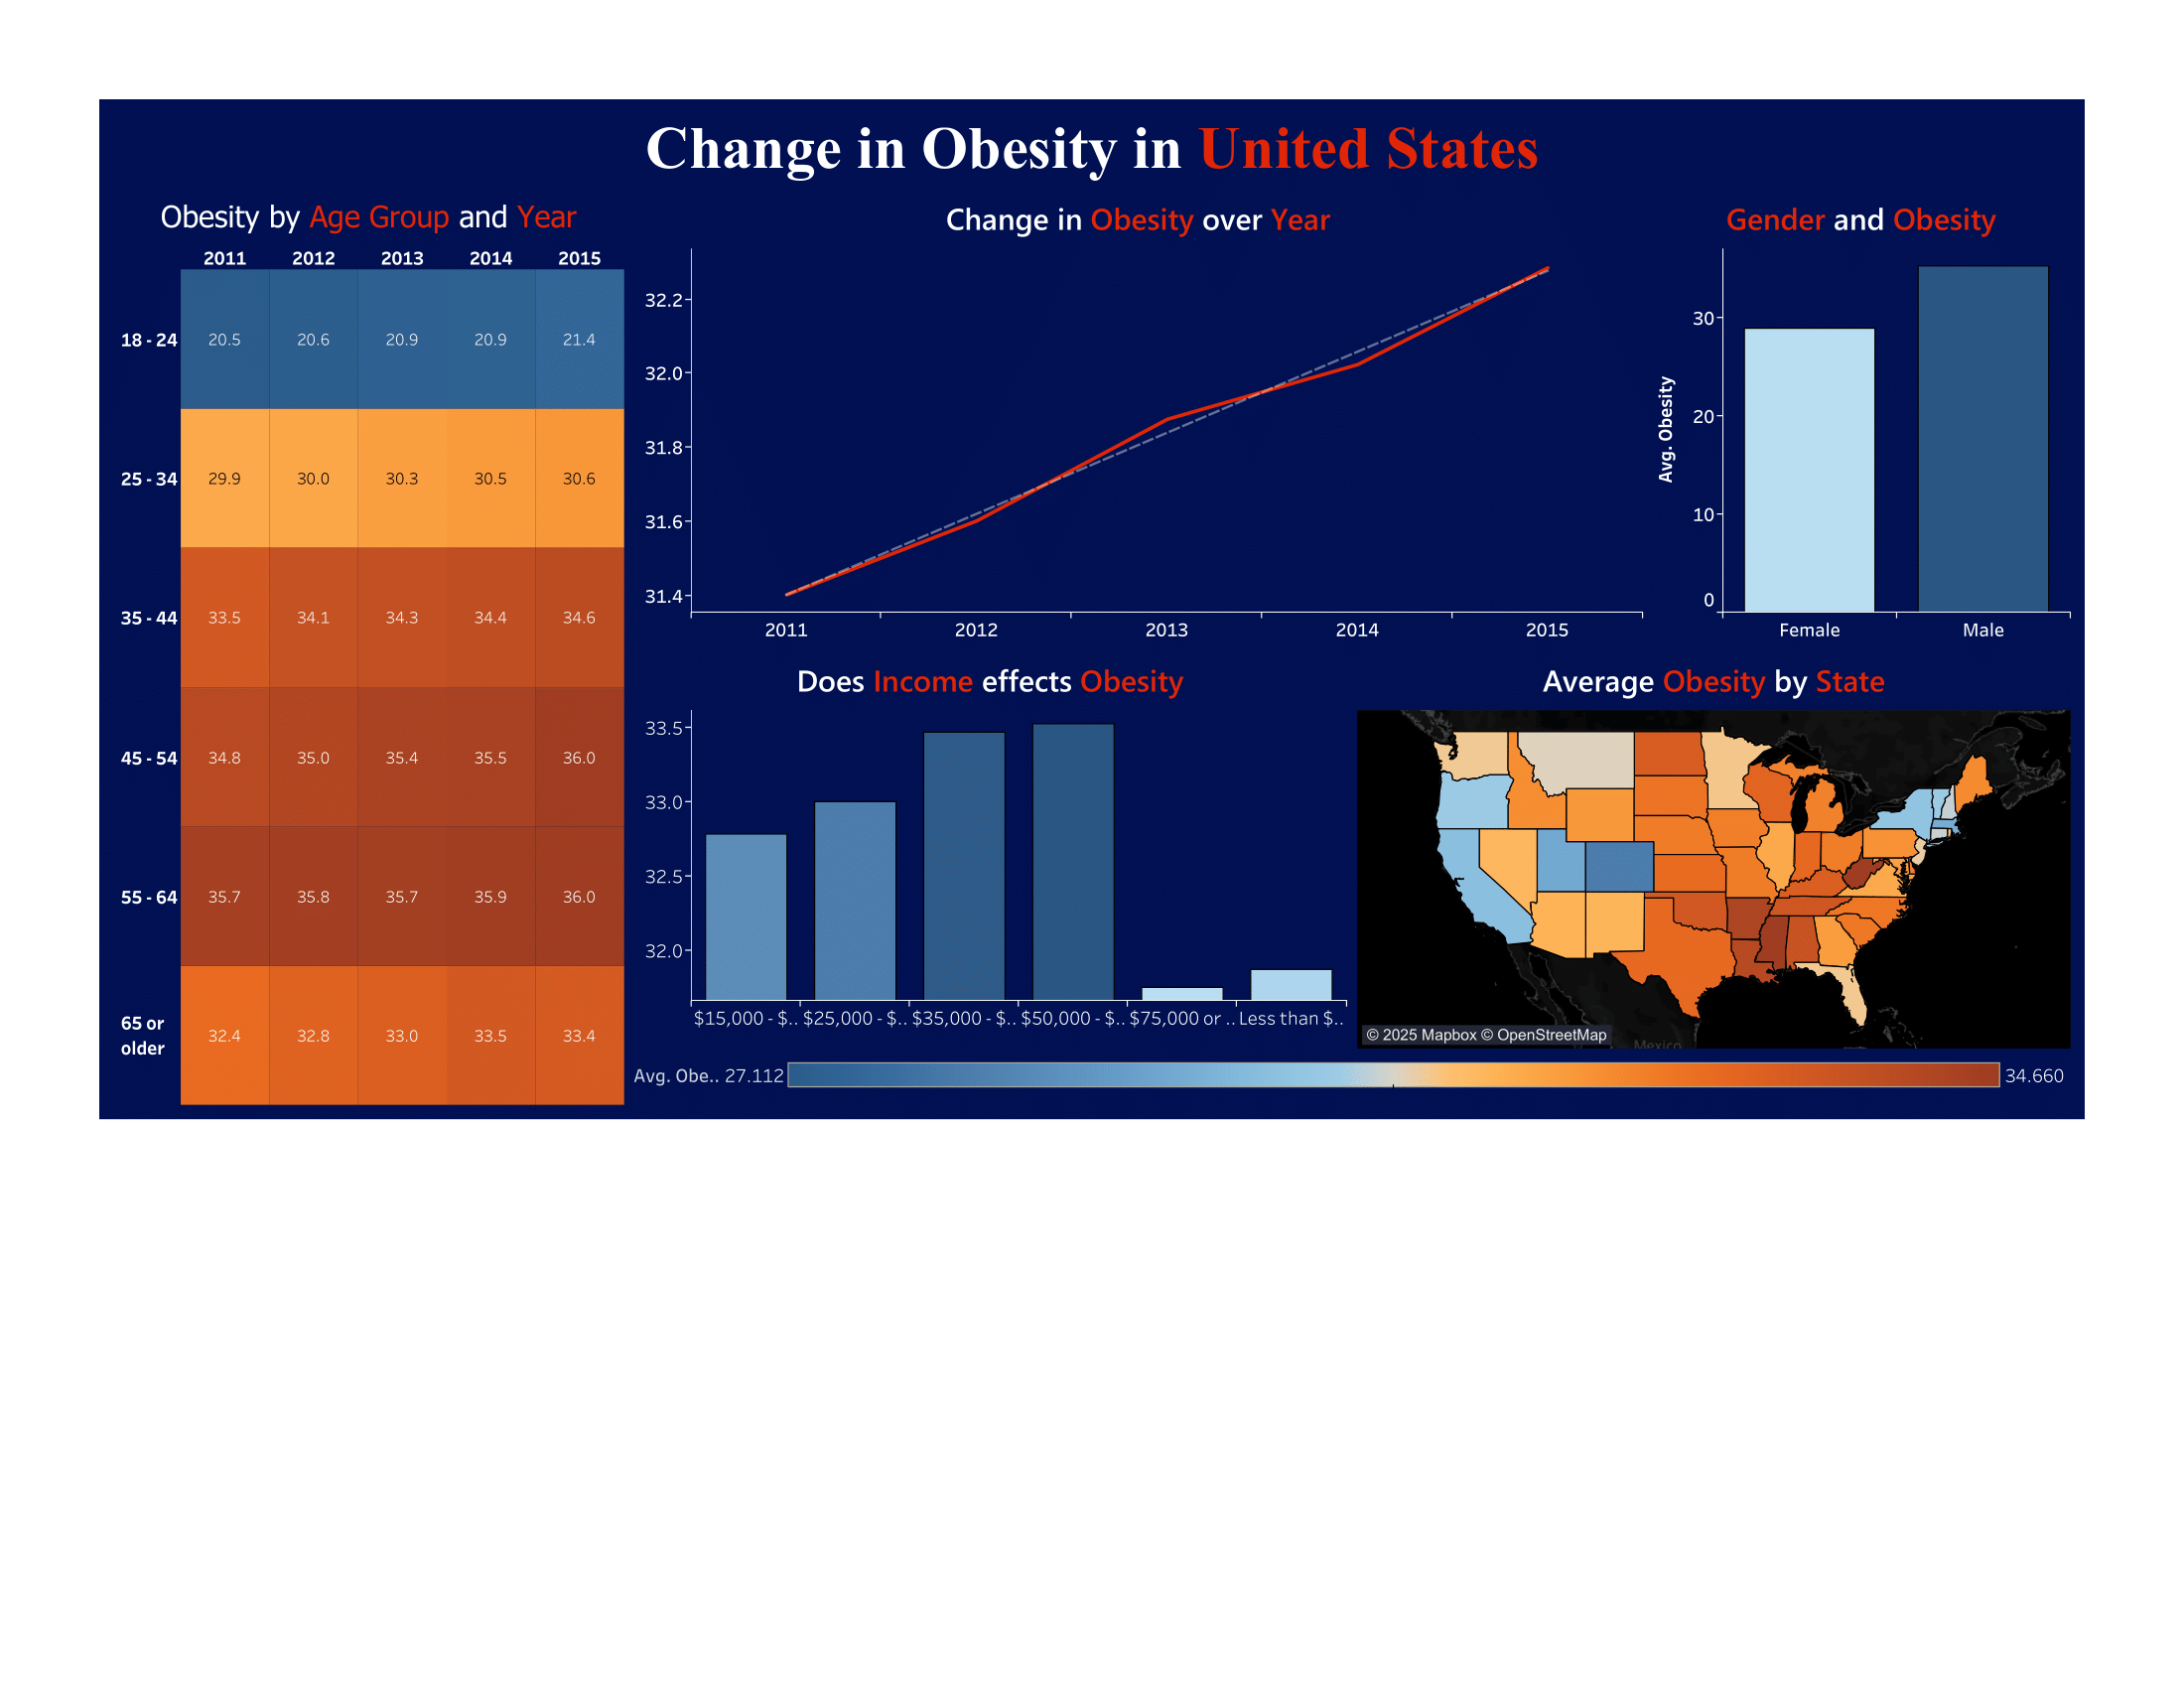

Layout of this report page (visuals, bound fields, positions):
{"tool":"tableau","page":{"name":"Change in Obesity in United States","canvas":[1000,1000],"units":"permille","ordinal":0},"visuals":[{"type":"title","box":[6.9,13.5,986.1,89.5]},{"type":"worksheet","title":"Obesity by Age Group and Year","mark":"Square","rows":["age_years"],"cols":["yearstart"],"box":[6.9,103,261.1,883.5]},{"type":"worksheet","title":"Change in Obesity over Year","mark":"Line","rows":["Calculation_326510999991275520"],"cols":["yearstart"],"box":[268,103,510.8,441.3]},{"type":"worksheet","title":"Gender and Obesity","mark":"Automatic","rows":["Calculation_326510999991275520"],"cols":["gender"],"box":[778.8,103,214.3,441.3]},{"type":"worksheet","title":"Does Income effects Obesity","mark":"Automatic","rows":["Calculation_326510999991275520"],"cols":["income"],"box":[268,544.3,362.5,388.2]},{"type":"worksheet","title":"Average Obesity by State","mark":"Automatic","box":[630.5,544.3,362.6,388.2]},{"type":"legend","title":"Average Obesity by State","param":"[federated.0uhxpah08y9isv1asia9w0q04auu].[avg:Calculation_326510999991275520:qk]","box":[268,932.5,725.1,54]}]}

Visuals, with their boxes on the dashboard's canvas, which has no fixed pixel size, in thousandths of its width and height (x1, y1, x2, y2). These are canvas units, not pixel positions in the 2184x1688 screenshot, which may show the page scaled, cropped or inside an application window:
title: 7 14 993 103
"Obesity by Age Group and Year" worksheet (Square marks): 7 103 268 986
"Change in Obesity over Year" worksheet (Line marks): 268 103 779 544
"Gender and Obesity" worksheet: 779 103 993 544
"Does Income effects Obesity" worksheet: 268 544 630 932
"Average Obesity by State" worksheet: 630 544 993 932
"Average Obesity by State" legend: 268 932 993 986
